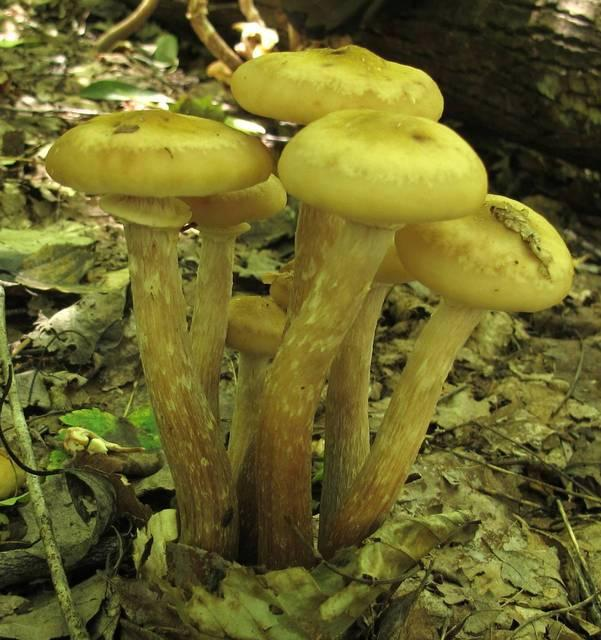Edible Mushroom: (250, 106, 488, 569), (44, 107, 278, 560), (316, 191, 573, 560), (231, 35, 446, 142)
